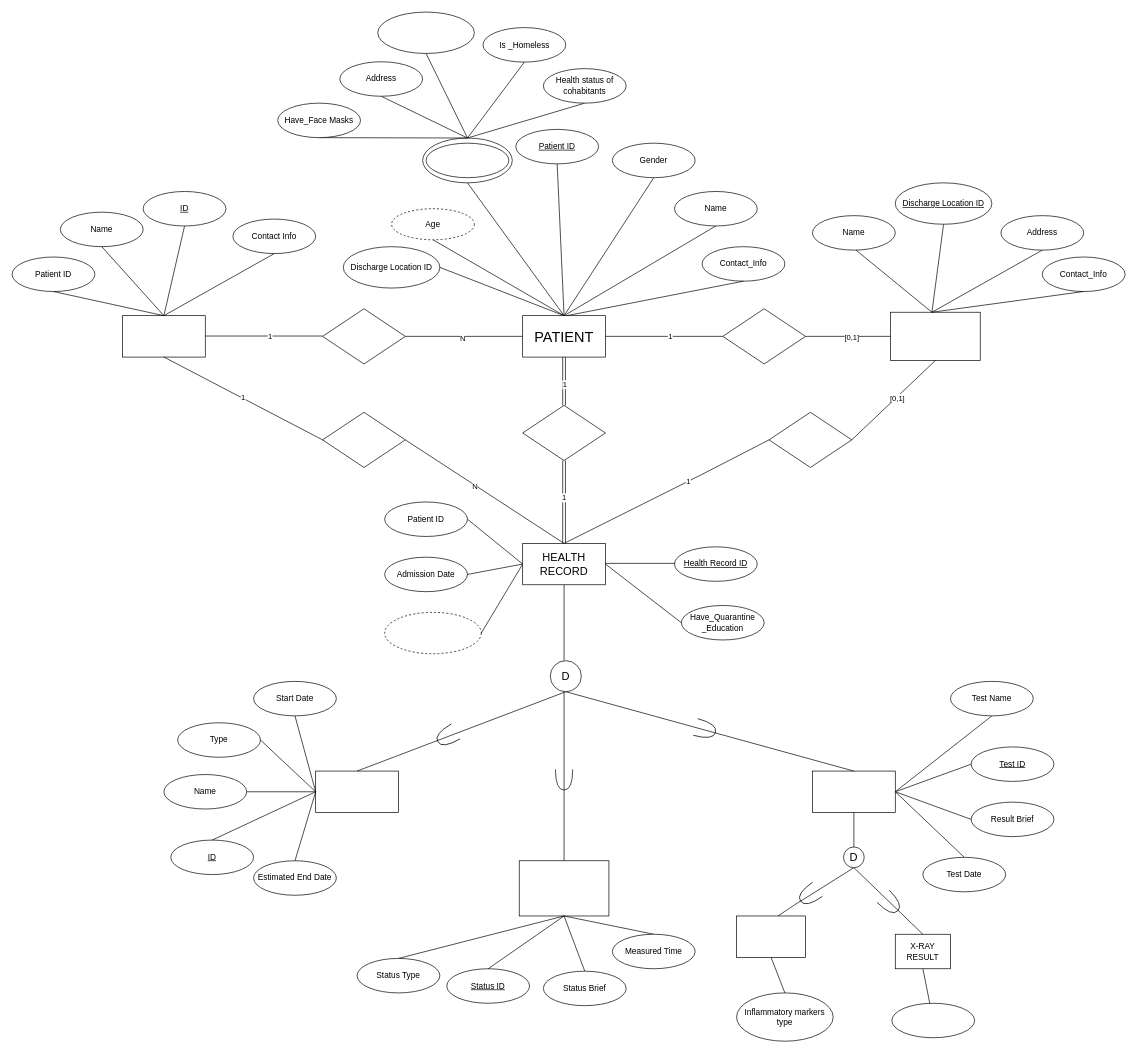
Image size: 1138x1054. Some labels were removed from this diagram. Each missing label, with the centre of its shape:
"CASE MANAGER" belongs at (163,336).
"Decided" belongs at (810,439).
"DISCHARGE LOCATION" belongs at (935,336).
"Duration of Admission" belongs at (432,633).
"GENERAL HEALTH STATUS" belongs at (564,888).
"Home Setting" belongs at (467,160).
"Is_Separated_Bedroom" belongs at (425,32).
"Keep" belongs at (563,433).
"LABORATORY DATA" belongs at (771,936).
"Managed" belongs at (363,336).
"MEDICATION" belongs at (356,791).
"Photo No." belongs at (933,1020).
"Received" belongs at (363,439).
"Send to" belongs at (764,336).
"TEST RESULT" belongs at (853,791).
